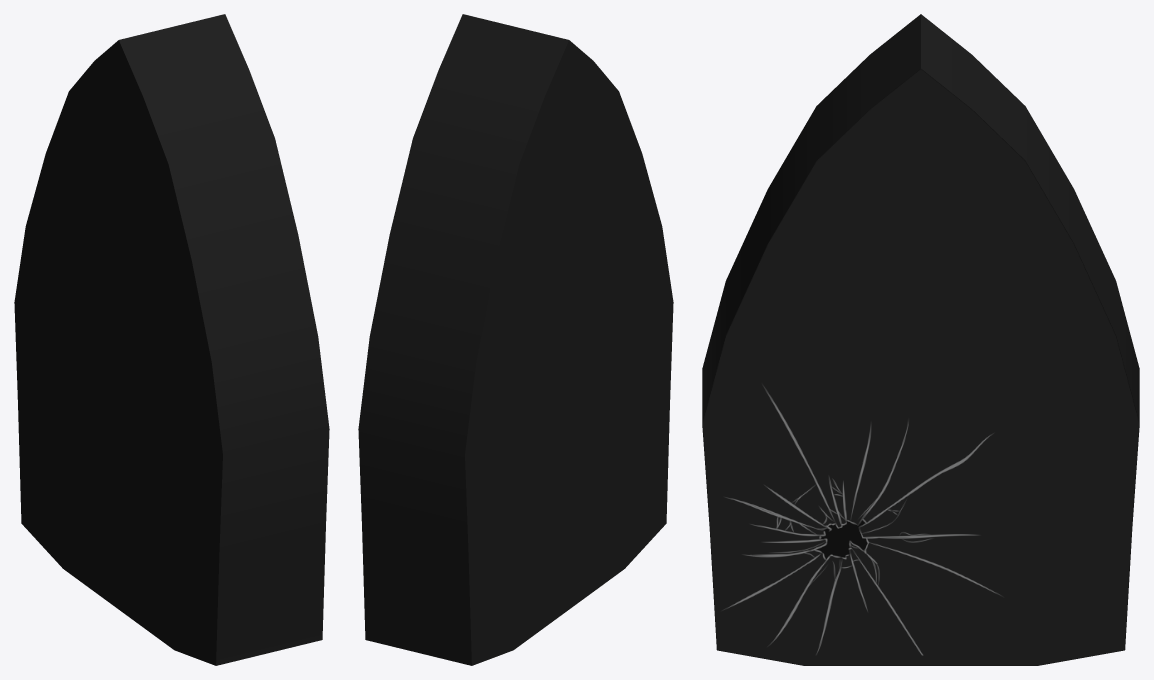
File: WindowInnerBroken.dae
3 views of the same model, side by side, from view 1: azimuth 30°, elevation 25°; view 2: azimuth 150°, elevation 25°; view 3: azimuth 270°, elevation 25° (orthographic). The views are drawn at different scales.
Visible parts, largest first — view 1: WindowInnerBroken; view 2: WindowInnerBroken; view 3: WindowInnerBroken.
Part boxes in pixels (<box>): WindowInnerBroken: <box>14,14,329,665</box>; WindowInnerBroken: <box>358,14,673,665</box>; WindowInnerBroken: <box>702,14,1139,665</box>.
Size of the model in its own units: 0.9 by 3.05 by 4.6.
1 material, 1 textured.
